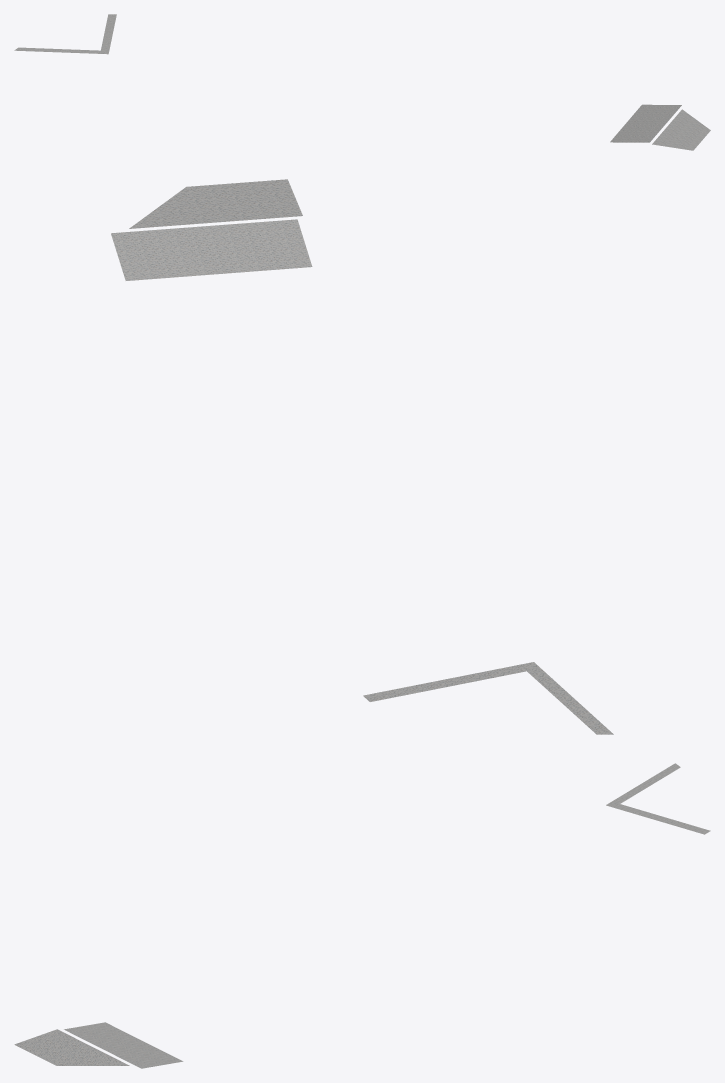
The model's file is kd_stage_13612f_4_30.glb.
3 renders of one model, top to bottom at view 1: azimuth 30°, elevation 25°; view 2: azimuth 150°, elevation 25°; view 3: azimuth 270°, elevation 25°, orthographic. The views are drawn at different scales.
Parts seen in each view (by area): view 1: kd_stage_13612f_4_30; view 2: kd_stage_13612f_4_30; view 3: kd_stage_13612f_4_30.
Boxes of the visible parts, x1=… form: kd_stage_13612f_4_30: x1=14, y1=14, x2=710, y2=150; kd_stage_13612f_4_30: x1=111, y1=179, x2=613, y2=734; kd_stage_13612f_4_30: x1=14, y1=763, x2=710, y2=1068.
Size of the model in its own units: 63.65 by 2.65 by 65.18.
1 material, 1 textured.
